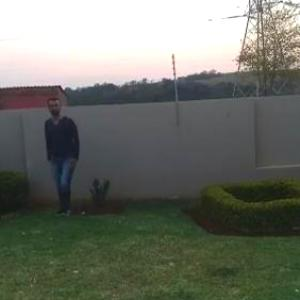follow: (45, 94, 99, 218)
